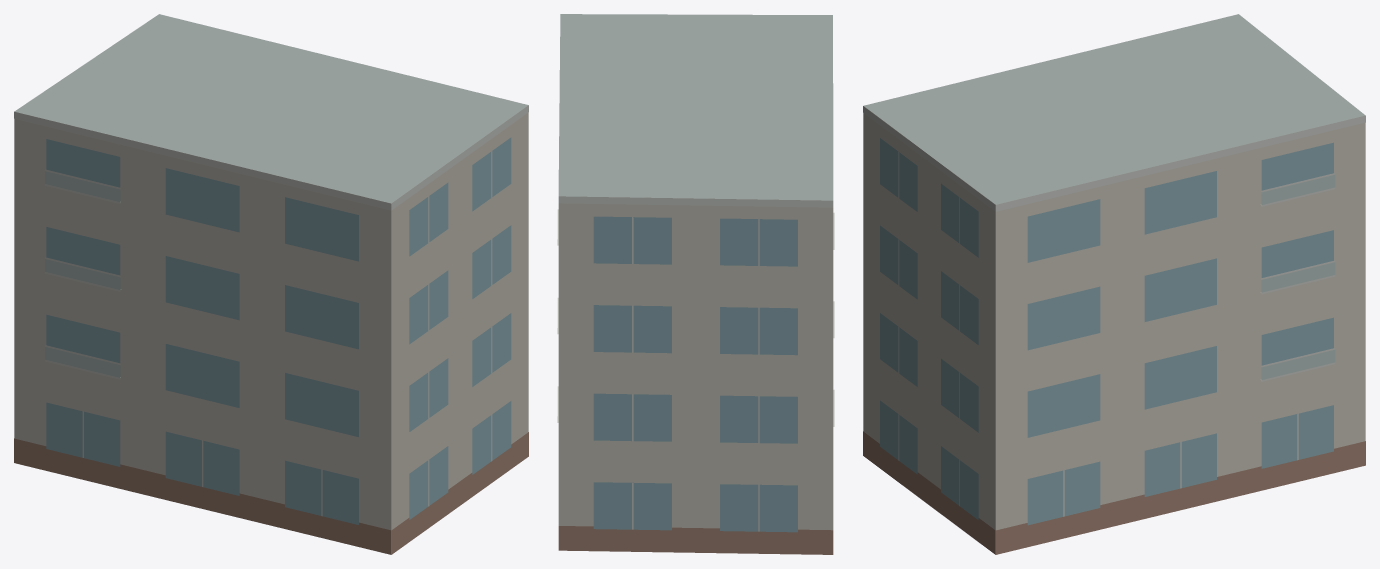
The model's file is survey-upis-33019317.glb.
3 views of the same model, side by side, from view 1: azimuth 30°, elevation 25°; view 2: azimuth 150°, elevation 25°; view 3: azimuth 270°, elevation 25° (orthographic).
Visible parts, largest first — view 1: survey-upis-33019317.tmp; view 2: survey-upis-33019317.tmp; view 3: survey-upis-33019317.tmp.
Boxes of the visible parts, box(x1,y1,x2,y2) form: survey-upis-33019317.tmp: box(14, 14, 528, 554); survey-upis-33019317.tmp: box(557, 14, 834, 554); survey-upis-33019317.tmp: box(863, 14, 1365, 554).
Bounding box in the file's own units: 14.28 × 12.2 × 15.89.
